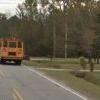Bus: (3, 32, 25, 68)
